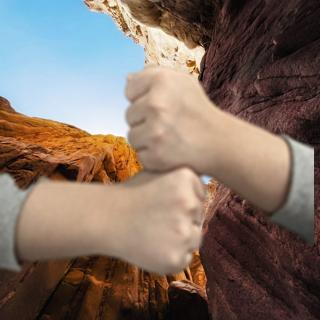CAREFUL: (19, 69, 318, 276)
